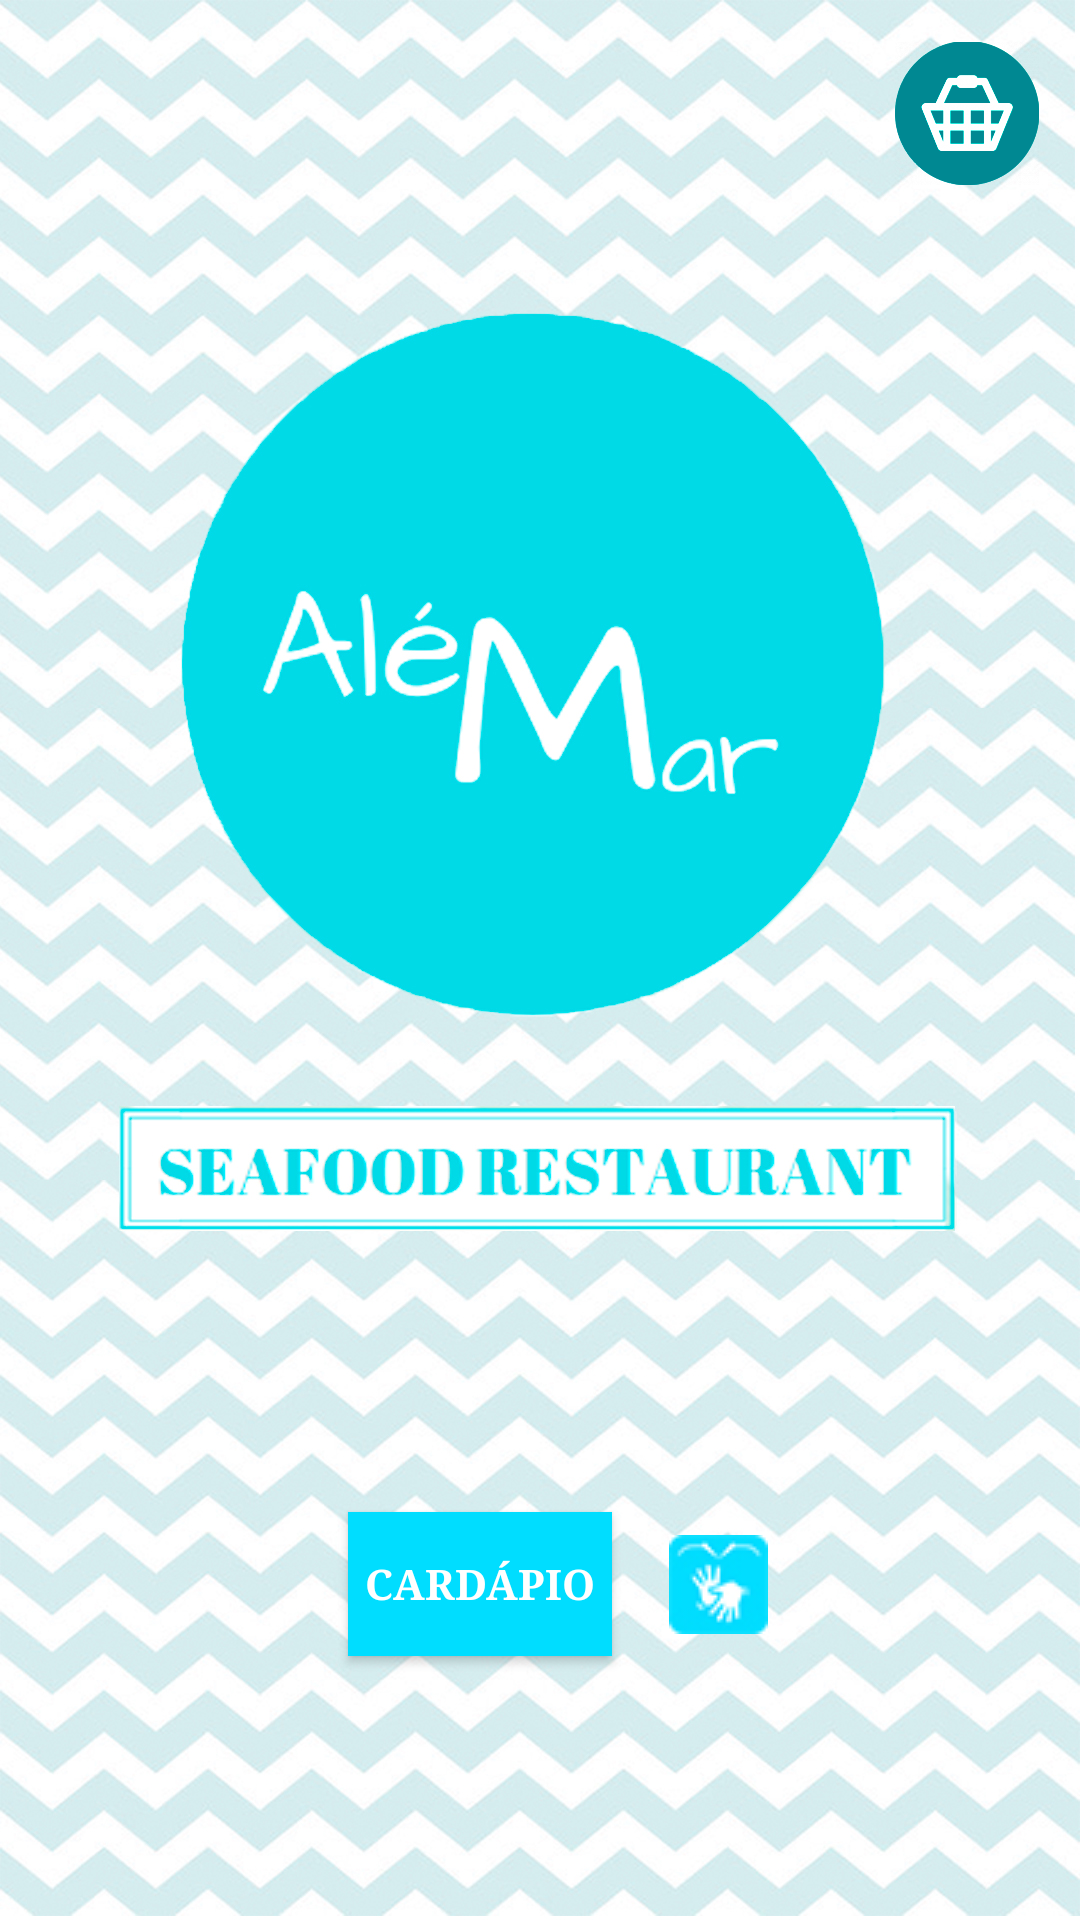

Icon click points for this 1080*1920 phone screenshot, format (x,y):
carrinho: (966,114)
